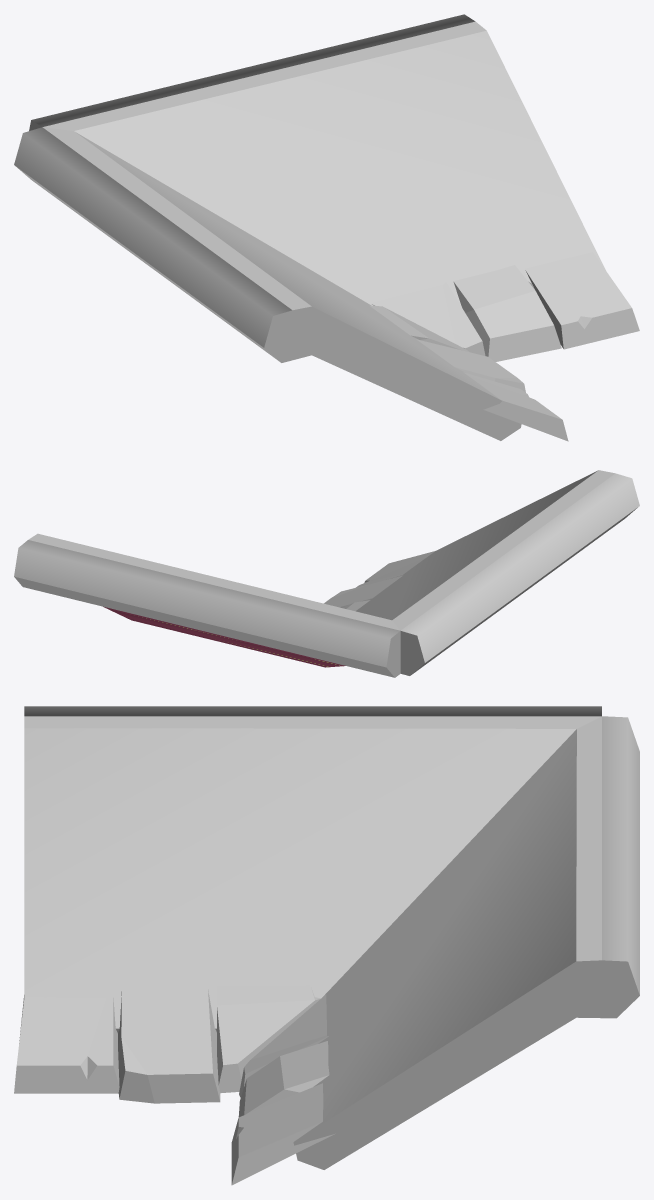
The model's file is SM_Bld_Roof_Trim_Corner_In_01.fbx.
3 renders of one model, top to bottom at view 1: azimuth 30°, elevation 25°; view 2: azimuth 150°, elevation 25°; view 3: azimuth 270°, elevation 25°, orthographic. The views are drawn at different scales.
Parts seen in each view (by area): view 1: SM_Bld_Roof_Trim_Corner_In_01; view 2: SM_Bld_Roof_Trim_Corner_In_01; view 3: SM_Bld_Roof_Trim_Corner_In_01.
Boxes of the visible parts, x1=… form: SM_Bld_Roof_Trim_Corner_In_01: x1=14, y1=14, x2=639, y2=441; SM_Bld_Roof_Trim_Corner_In_01: x1=14, y1=470, x2=639, y2=677; SM_Bld_Roof_Trim_Corner_In_01: x1=14, y1=706, x2=639, y2=1185.
Size of the model in its own units: 269 by 110 by 271.
